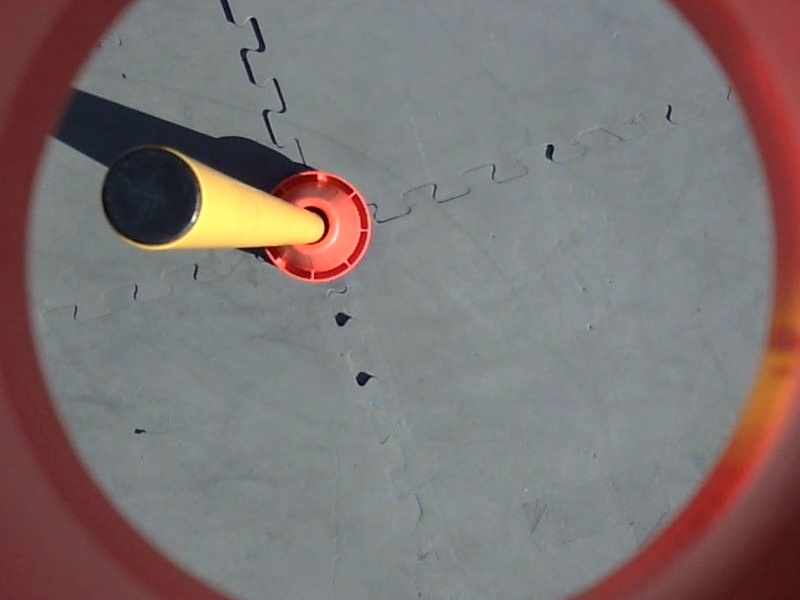tip: (99, 144, 211, 255)
